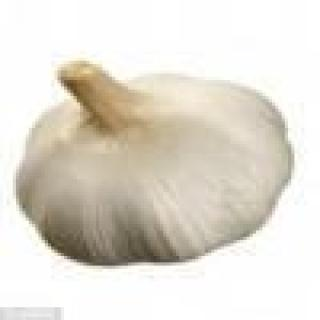Bawang Putih: (7, 49, 302, 270)
